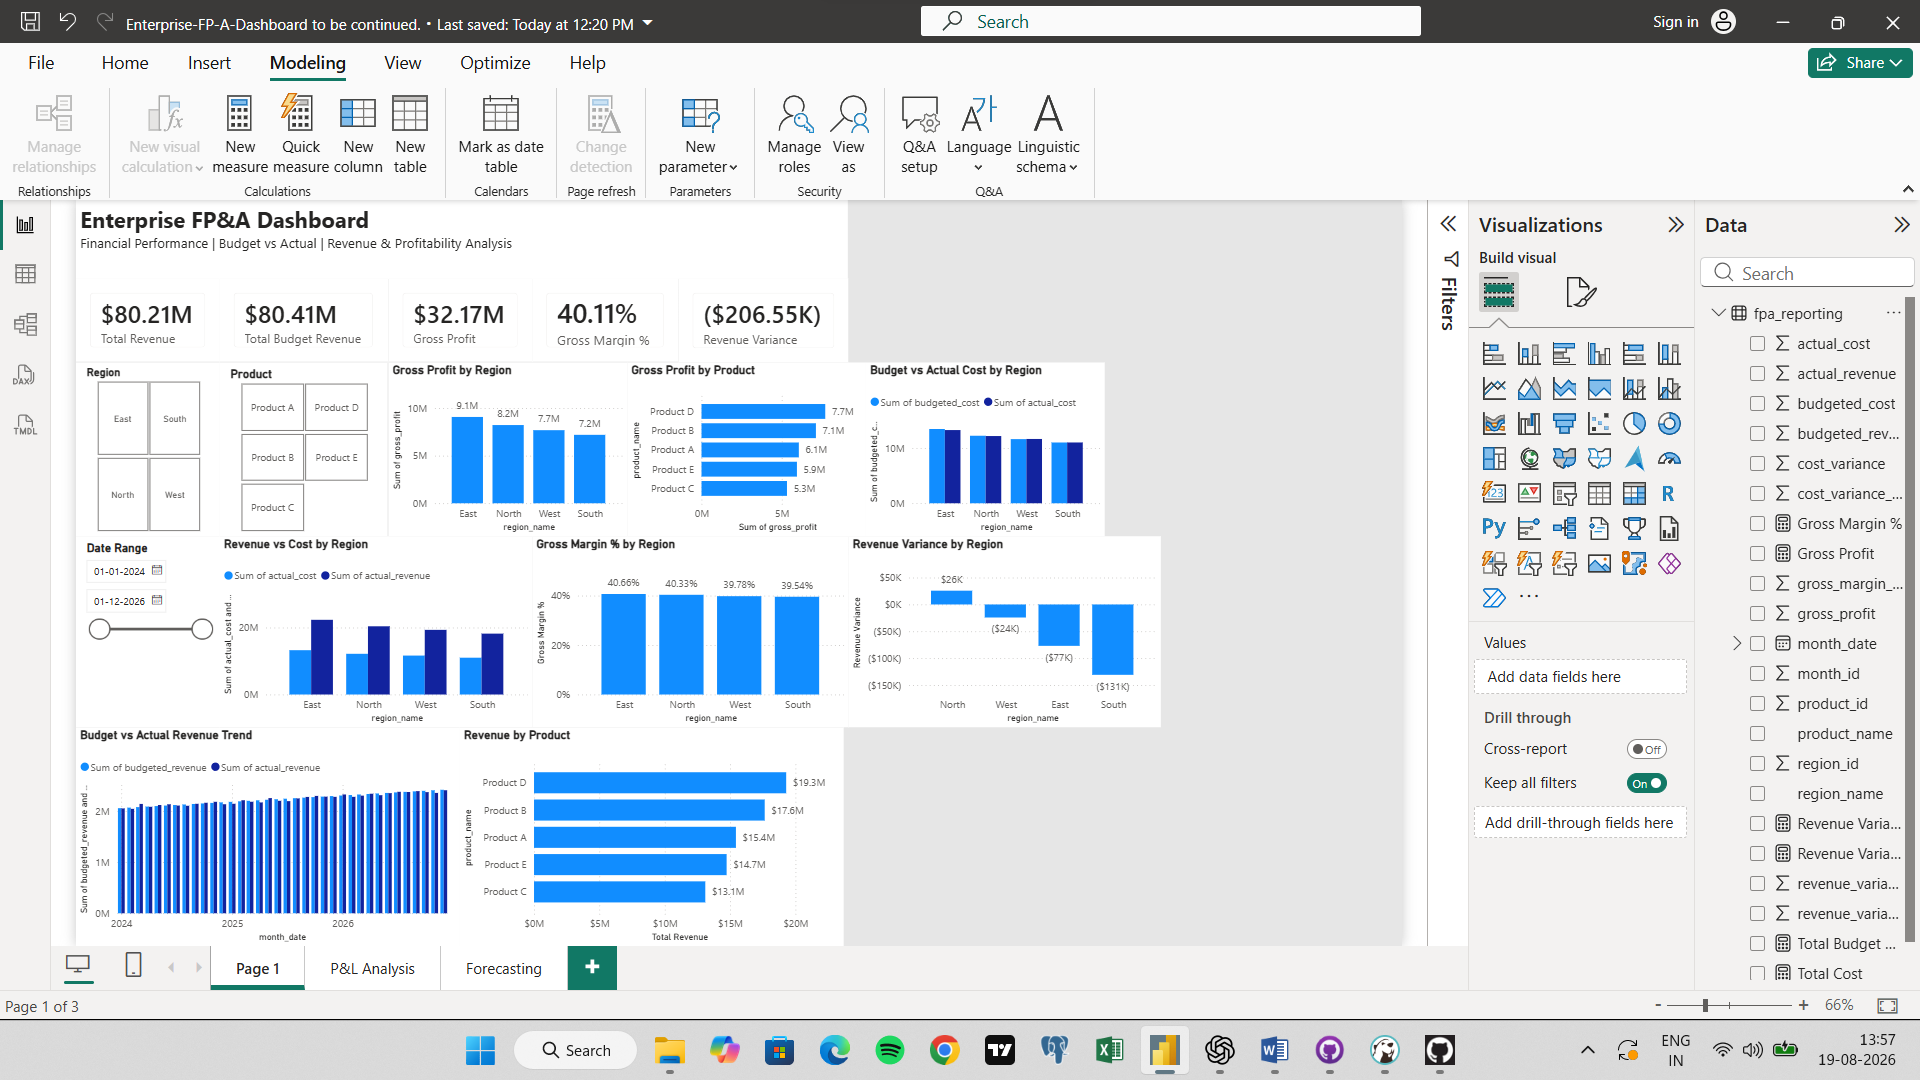

What the dashboard file says about the page in this screenshot:
{"tool":"powerbi","page":{"name":"Page 1","canvas":[1600,900],"ordinal":0},"visuals":[{"type":"cardVisual","fields":{"Data":["fpa_reporting.Total Revenue"]},"box":[0,95.4,173.6,100.3],"z":0},{"type":"cardVisual","fields":{"Data":["fpa_reporting.Total Budget Revenue"]},"box":[173.7,95.3,203,100.3],"z":1000},{"type":"cardVisual","fields":{"Data":["fpa_reporting.Revenue Variance"]},"box":[726.9,95,205.1,101],"z":2000},{"type":"cardVisual","fields":{"Data":["fpa_reporting.Gross Profit"]},"box":[376.4,95.3,173.6,100.3],"z":3000},{"type":"lineClusteredColumnComboChart","title":"Budget vs Actual Revenue Trend","fields":{"Y":["Sum(fpa_reporting.budgeted_revenue)","Sum(fpa_reporting.actual_revenue)"],"Category":["fpa_reporting.month_date"]},"box":[0,636.4,463,263.9],"z":4000},{"type":"clusteredColumnChart","title":"Revenue vs Cost by Region","fields":{"Category":["fpa_reporting.region_name"],"Y":["Sum(fpa_reporting.actual_cost)","Sum(fpa_reporting.actual_revenue)"]},"box":[173.4,405.7,377,230.7],"z":5000},{"type":"clusteredColumnChart","title":"Gross Profit by Region","fields":{"Category":["fpa_reporting.region_name"],"Y":["Sum(fpa_reporting.gross_profit)"]},"box":[377,196,288,209.6],"z":6000},{"type":"clusteredColumnChart","title":"Budget vs Actual Cost by Region","fields":{"Category":["fpa_reporting.region_name"],"Y":["Sum(fpa_reporting.budgeted_cost)","Sum(fpa_reporting.actual_cost)"]},"box":[953.1,196,288,209.6],"z":7000},{"type":"clusteredColumnChart","title":"Revenue Variance by Region","fields":{"Category":["fpa_reporting.region_name"],"Y":["fpa_reporting.Revenue Variance"]},"box":[932,405.7,377,230.7],"z":8000},{"type":"clusteredColumnChart","title":"Gross Margin % by Region","fields":{"Category":["fpa_reporting.region_name"],"Y":["fpa_reporting.Gross Margin %"]},"box":[550.4,405.7,381.5,230.7],"z":9000},{"type":"clusteredBarChart","title":"Revenue by Product","fields":{"Category":["fpa_reporting.product_name"],"Y":["fpa_reporting.Total Revenue"]},"box":[463,636.4,463,263.9],"z":10000},{"type":"clusteredBarChart","title":"Gross Profit by Product","fields":{"Category":["fpa_reporting.product_name"],"Y":["Sum(fpa_reporting.gross_profit)"]},"box":[665.1,196,288,209.6],"z":11000},{"type":"slicer","fields":{"Values":["fpa_reporting.region_name"]},"box":[0,195.4,173.7,209.9],"z":12000},{"type":"slicer","title":"Product","fields":{"Values":["fpa_reporting.product_name"]},"box":[173.7,195.4,202.7,209.9],"z":13000},{"type":"slicer","fields":{"Values":["fpa_reporting.month_date"]},"box":[0,405.7,173.4,230.7],"z":14000},{"type":"textbox","box":[0,0,931.4,95.3],"z":15000},{"type":"cardVisual","fields":{"Data":["fpa_reporting.Gross Margin %"]},"box":[550.1,95.3,176.1,100.1],"z":16000}]}

Visuals, with their boxes on the page's 1600x900 design canvas (x1, y1, x2, y2). These are canvas units, not pixel positions in the 1920x1080 screenshot, which may show the page scaled, cropped or inside an application window:
cardVisual - fpa_reporting.Total Revenue: <region>0, 95, 174, 196</region>
cardVisual - fpa_reporting.Total Budget Revenue: <region>174, 95, 377, 196</region>
cardVisual - fpa_reporting.Revenue Variance: <region>727, 95, 932, 196</region>
cardVisual - fpa_reporting.Gross Profit: <region>376, 95, 550, 196</region>
"Budget vs Actual Revenue Trend" lineClusteredColumnComboChart: <region>0, 636, 463, 900</region>
"Revenue vs Cost by Region" clusteredColumnChart: <region>173, 406, 550, 636</region>
"Gross Profit by Region" clusteredColumnChart: <region>377, 196, 665, 406</region>
"Budget vs Actual Cost by Region" clusteredColumnChart: <region>953, 196, 1241, 406</region>
"Revenue Variance by Region" clusteredColumnChart: <region>932, 406, 1309, 636</region>
"Gross Margin % by Region" clusteredColumnChart: <region>550, 406, 932, 636</region>
"Revenue by Product" clusteredBarChart: <region>463, 636, 926, 900</region>
"Gross Profit by Product" clusteredBarChart: <region>665, 196, 953, 406</region>
slicer - fpa_reporting.region_name: <region>0, 195, 174, 405</region>
"Product" slicer: <region>174, 195, 376, 405</region>
slicer - fpa_reporting.month_date: <region>0, 406, 173, 636</region>
textbox: <region>0, 0, 931, 95</region>
cardVisual - fpa_reporting.Gross Margin %: <region>550, 95, 726, 195</region>
